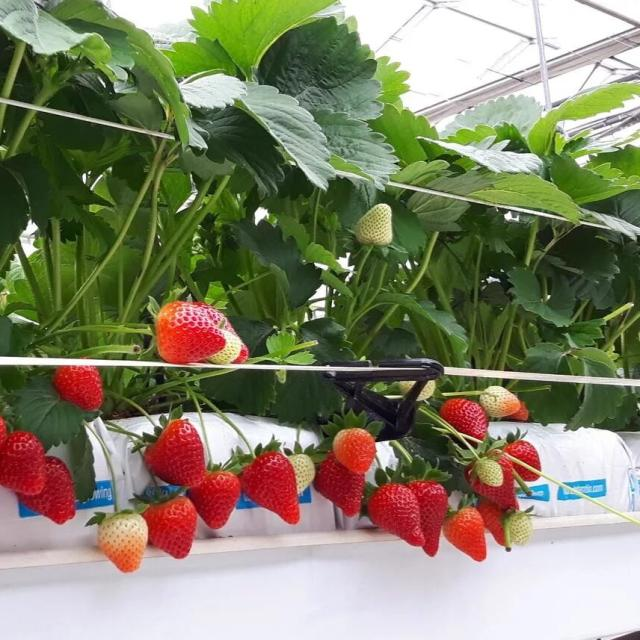Ripe Strawberry: (240, 454, 300, 524), (15, 456, 76, 524), (143, 420, 204, 485), (369, 484, 425, 545), (313, 454, 365, 516), (145, 497, 196, 558), (407, 482, 447, 557), (188, 472, 240, 529), (0, 432, 45, 494), (471, 458, 519, 511), (53, 364, 103, 410), (440, 399, 487, 439), (503, 442, 540, 480), (1, 419, 8, 445)
